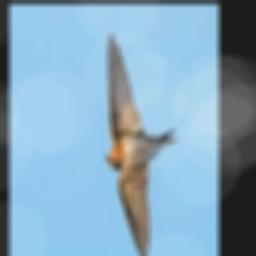Swallow: (103, 32, 176, 256)
